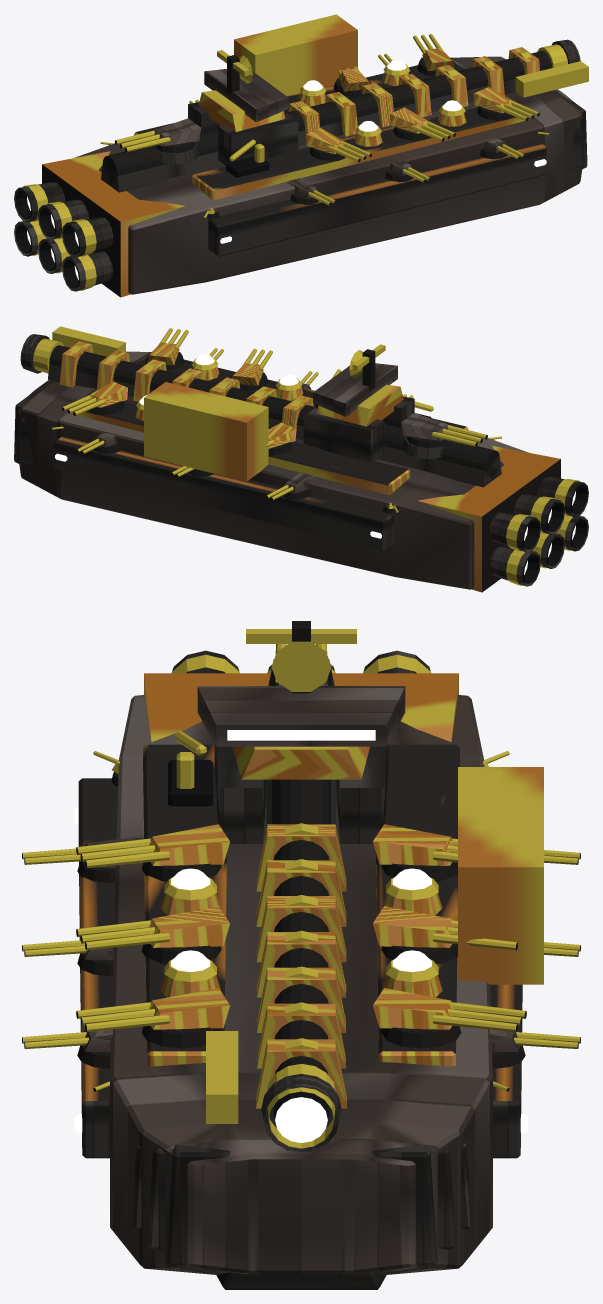
The model's file is battleship.glb.
3 views of the same model, one above another, from view 1: azimuth 30°, elevation 25°; view 2: azimuth 150°, elevation 25°; view 3: azimuth 270°, elevation 25° (orthographic). The views are drawn at different scales.
Visible parts, largest first — view 1: hull_body, weapon_mounts, engine_block, sensor_tower, shield_domes; view 2: hull_body, weapon_mounts, engine_block, sensor_tower, shield_domes; view 3: hull_body, weapon_mounts, sensor_tower, engine_block, shield_domes.
Boxes of the visible parts, box(x1,y1,x2,y2) form: hull_body: box(74, 14, 588, 294); weapon_mounts: box(100, 34, 580, 219); engine_block: box(14, 151, 184, 297); sensor_tower: box(188, 50, 298, 165); shield_domes: box(299, 60, 466, 146); hull_body: box(14, 326, 528, 589); weapon_mounts: box(20, 328, 501, 514); engine_block: box(417, 445, 588, 592); sensor_tower: box(303, 344, 414, 462); shield_domes: box(135, 354, 303, 420); hull_body: box(74, 695, 543, 1289); weapon_mounts: box(22, 644, 580, 1152); sensor_tower: box(197, 621, 405, 843); engine_block: box(144, 650, 458, 741); shield_domes: box(160, 868, 442, 997).
Bounding box in the file's own units: 60 × 19.7 × 27.72.
Materials: 1 (1 with a texture image).
